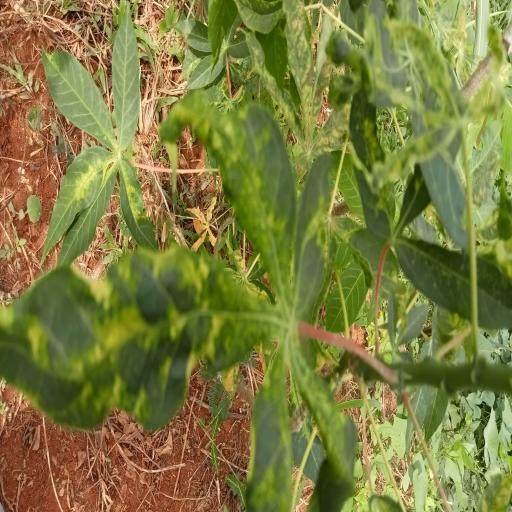Cassava_Mosaic: (36, 0, 163, 268)
